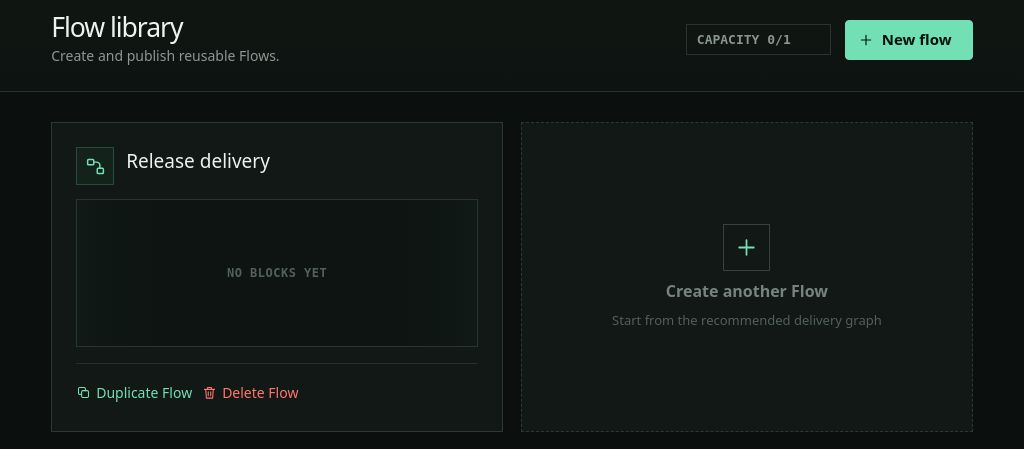
FlowLibrary › renames a Flow directly from its library card
Click the button with aria-label "Rename flow Release delivery" at (208, 161), box x1=126 y1=147 x2=289 y2=176
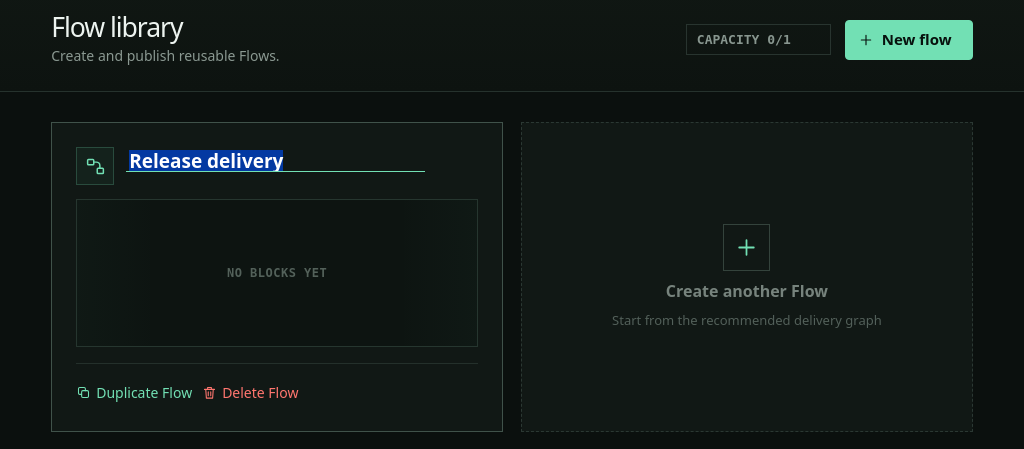
Replace the text in the field named "Flow name for Release delivery" with "Release train" at (276, 161), box x1=126 y1=150 x2=425 y2=172
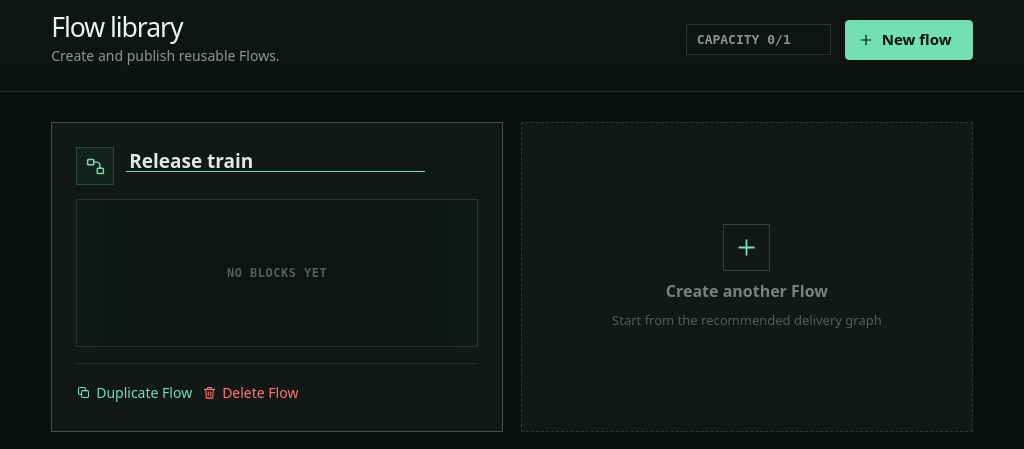
Press Enter in the field named "Flow name for Release delivery", box x1=126 y1=150 x2=425 y2=172
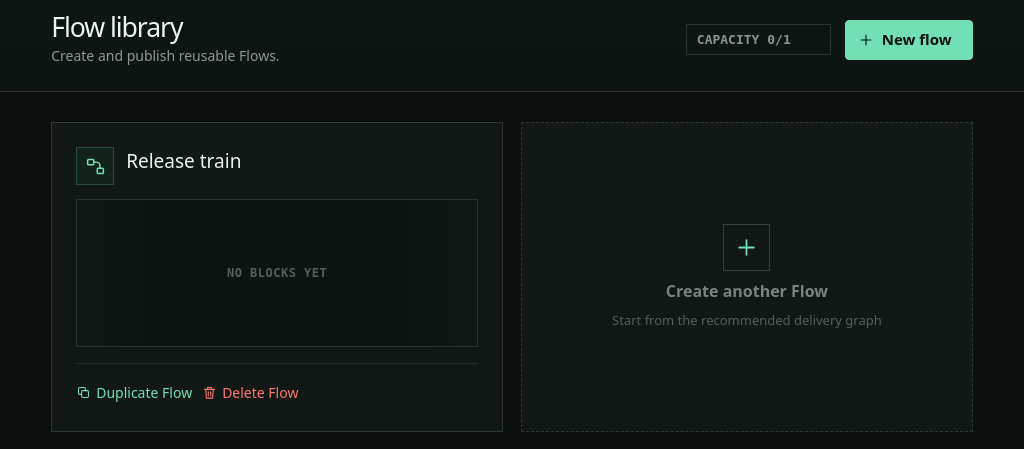
Expected: the button with aria-label "Rename flow Release train" is shown, x1=126 y1=147 x2=260 y2=176
